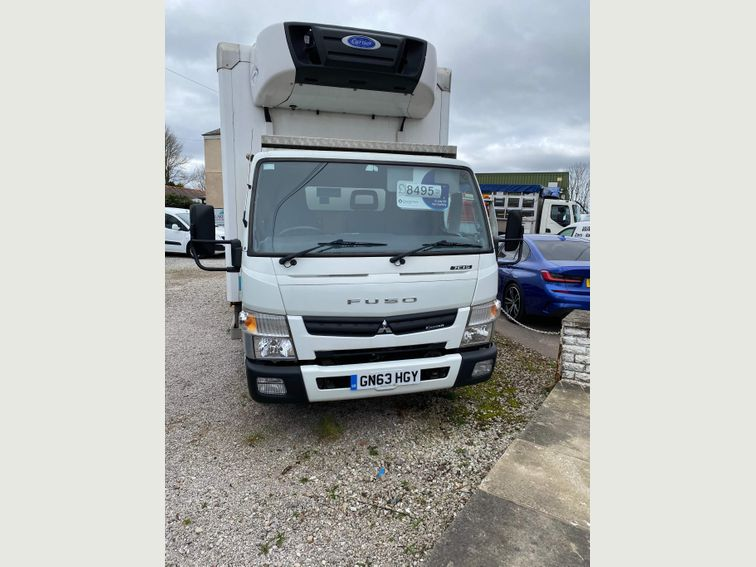Car: (495, 233, 589, 328)
Semi: (188, 21, 501, 404)
